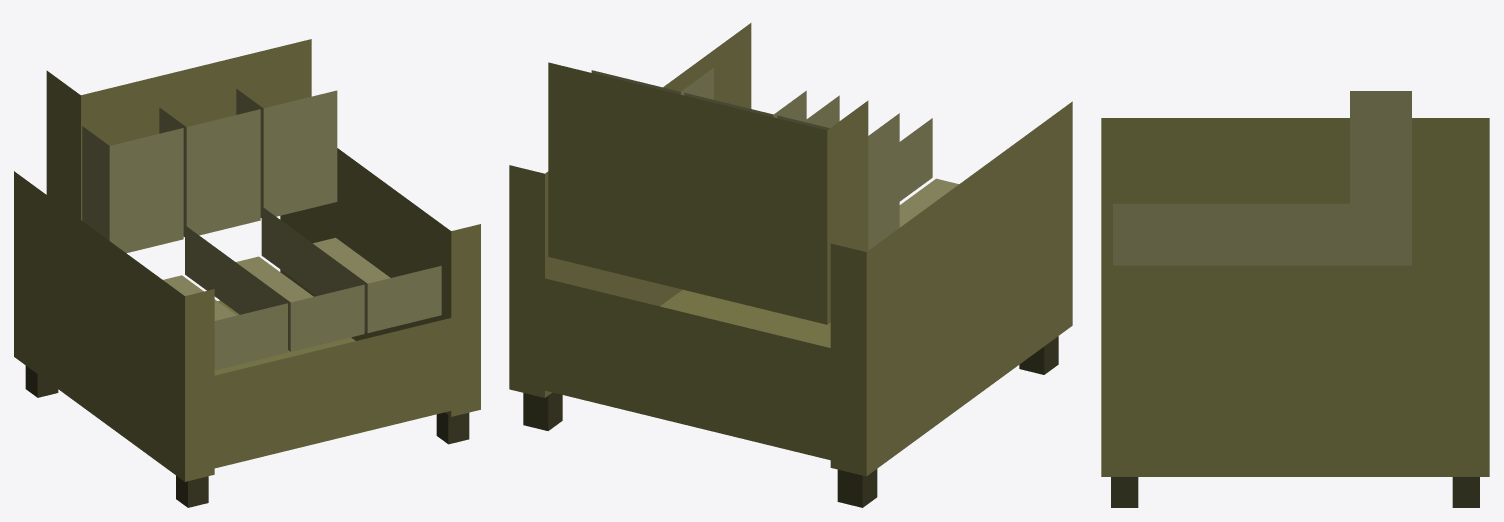
Rendered from Sofa-olive.glb.
The picture shows the model from 3 angles, left to right: view 1: azimuth 30°, elevation 25°; view 2: azimuth 150°, elevation 25°; view 3: azimuth 270°, elevation 25°; orthographic projection. The views are drawn at different scales.
Visible parts, largest first — view 1: Sofa; view 2: Sofa; view 3: Sofa.
Part boxes in pixels (bbox=[...]): Sofa: bbox=[14, 39, 480, 507]; Sofa: bbox=[509, 23, 1072, 507]; Sofa: bbox=[1101, 91, 1489, 507].
Bounding box in the file's own units: 1 × 1 × 1.
